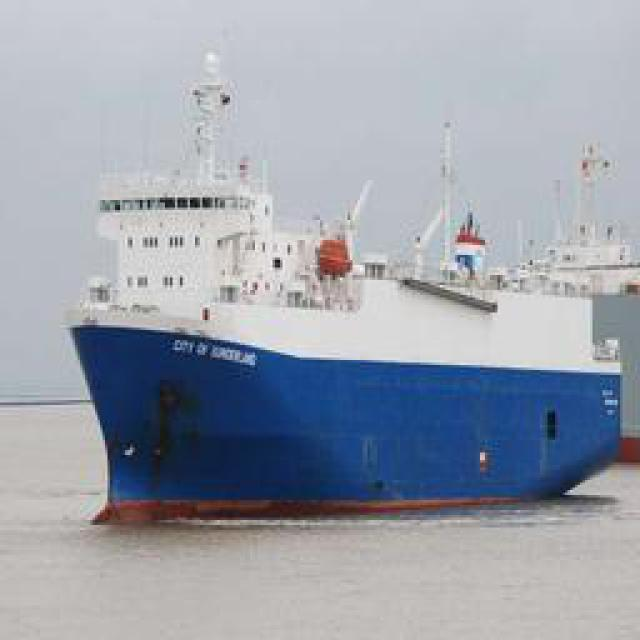Ship: (60, 74, 633, 524)
